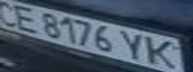1: (54, 14, 78, 44)
6: (90, 22, 118, 54)
7: (72, 17, 93, 47)
8: (36, 9, 63, 39)
C: (0, 0, 24, 27)
E: (6, 2, 42, 33)
K: (142, 36, 184, 71)
Y: (118, 28, 151, 62)
